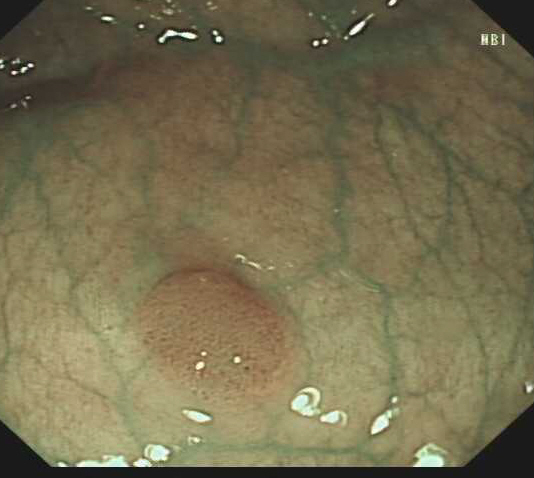adenoma: (133, 265, 303, 406)
